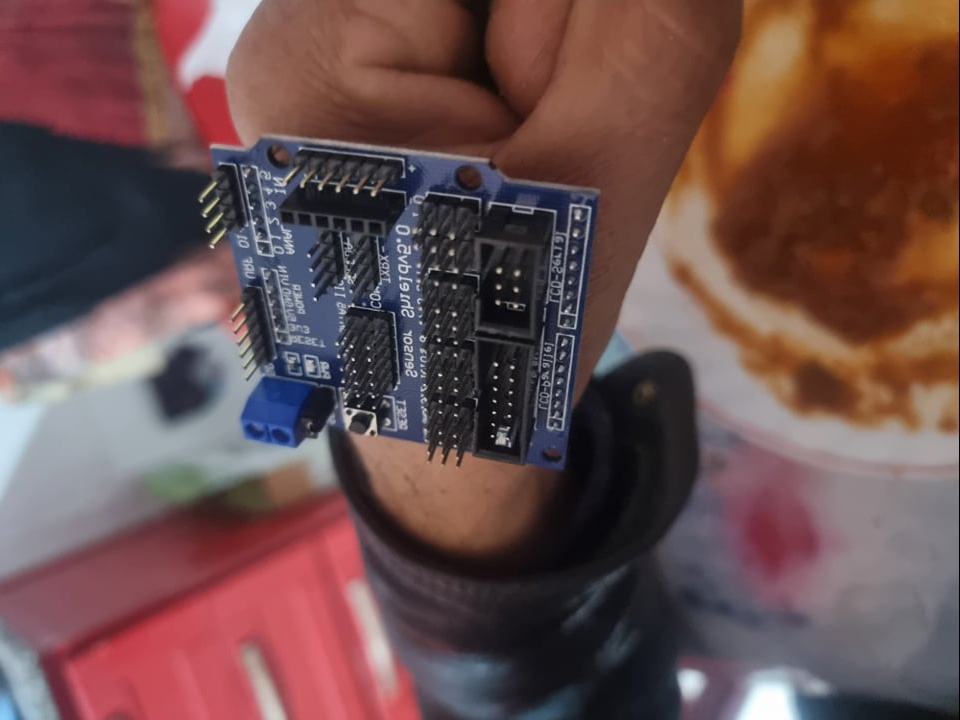5V EXPANSION: (201, 130, 608, 474)
